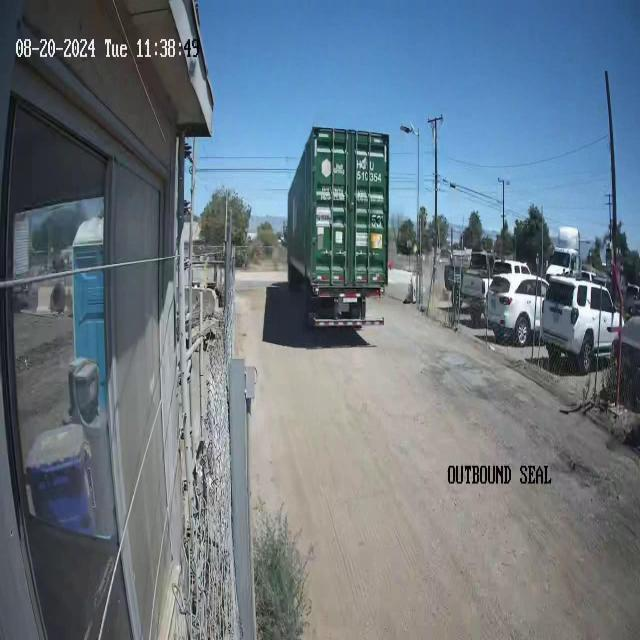TRUCK_CONTAINER: (282, 124, 390, 331)
